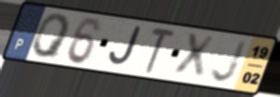6: (65, 15, 104, 66)
J: (209, 38, 249, 84), (107, 25, 144, 69)
Q: (30, 13, 71, 61)
T: (144, 25, 178, 75)
X: (171, 32, 218, 81)
